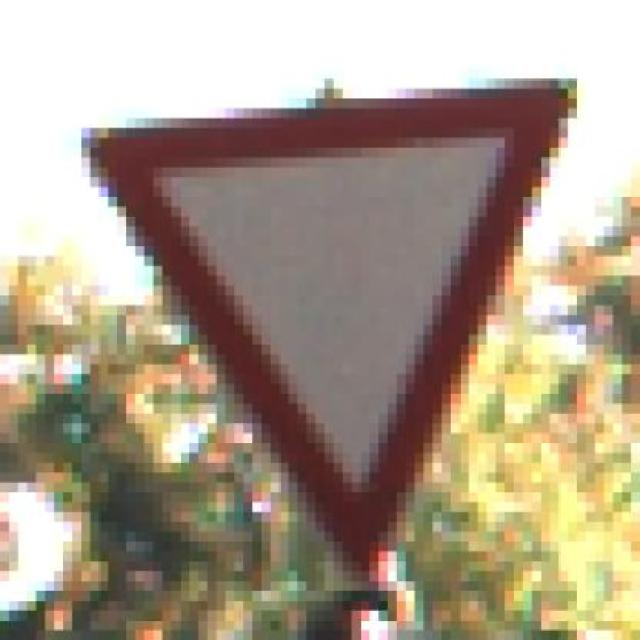Give Way: (53, 68, 604, 581)
